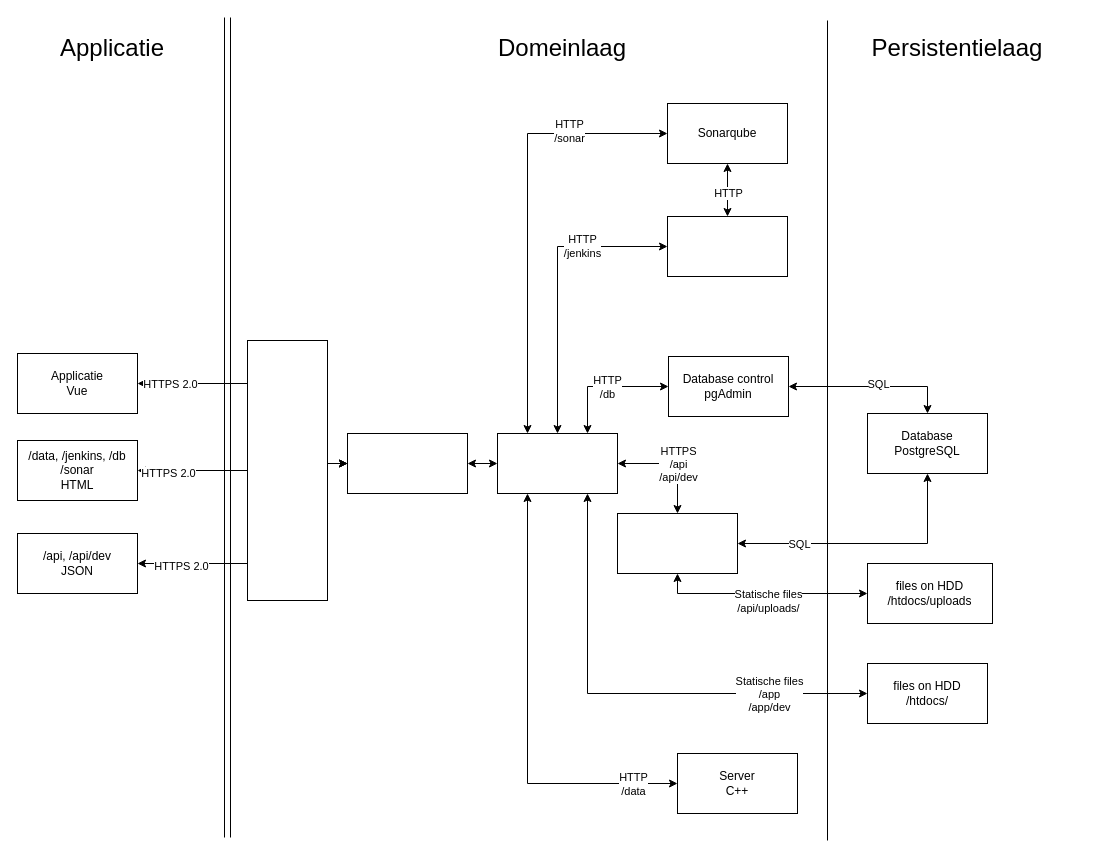
The diagram is 1095 pixels wide and 859 high, and some of its shapes have lost their labels. The shapes that lost their labels are listed below. From the top down, each one's centre as x and y in pixels, then its label:
(x=727, y=246): Jenkins
(x=287, y=470): Firewall
(x=407, y=463): Web application firewall
(x=557, y=463): Nginx
(x=677, y=543): API Spring
